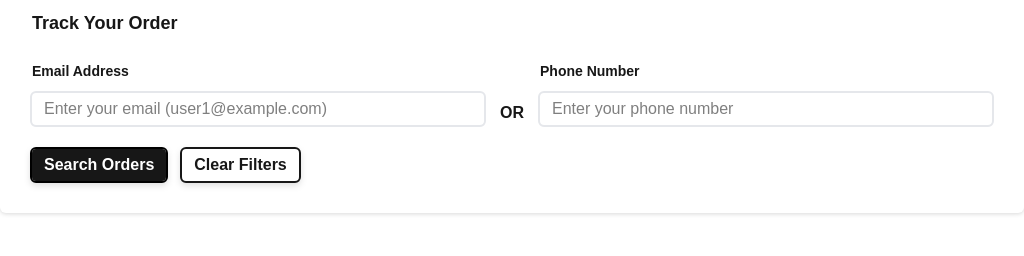
Test: Clicking "Clear Filters" clears any error messages
Click the button "Search Orders".
click(99, 165)  # box 32,149 -> 166,181
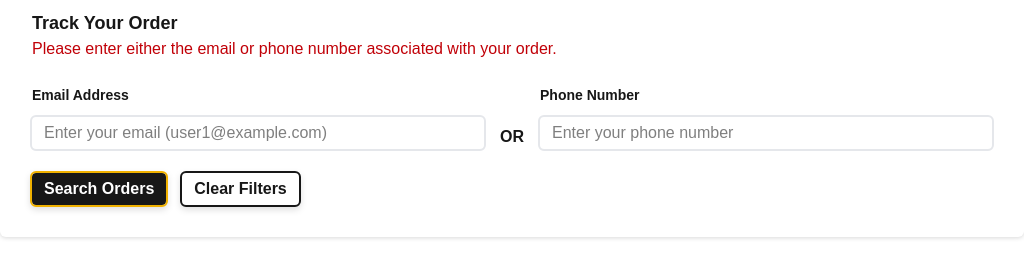
Expected: the text "Please enter either the email or phone number associated with your order." is shown, 32,40 -> 557,57
Click the button "Clear Filters".
click(241, 189)  # box 182,173 -> 299,205
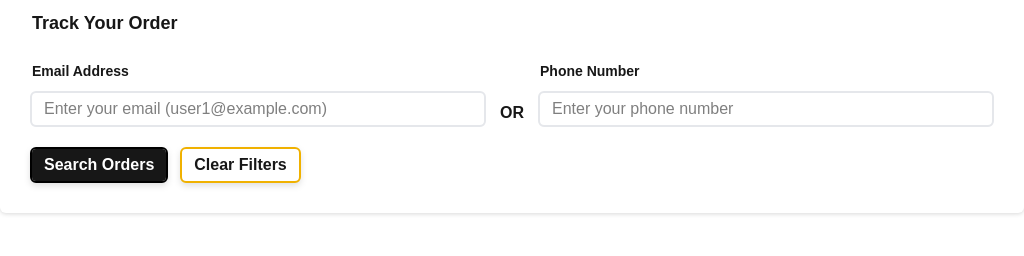
Expected: the text "Please enter either the email or phone number associated with your order." is gone
